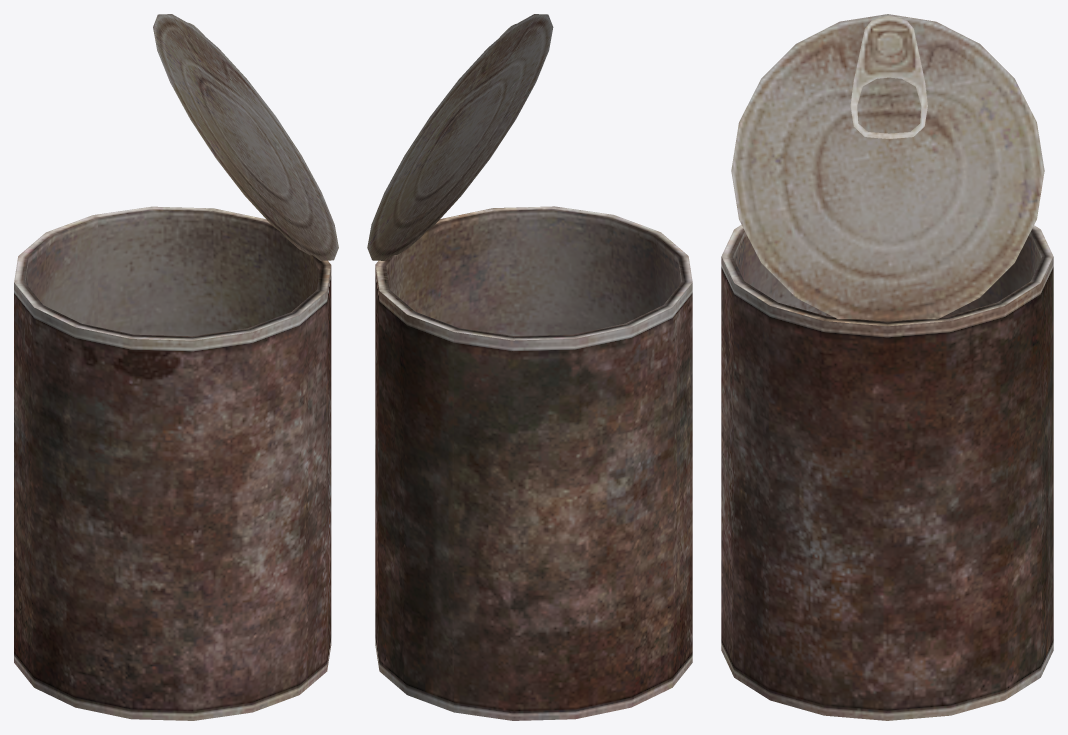
The model's file is can02a.obj.
The picture shows the model from 3 angles, left to right: view 1: azimuth 30°, elevation 25°; view 2: azimuth 150°, elevation 25°; view 3: azimuth 270°, elevation 25°; orthographic projection. The views are drawn at different scales.
Visible parts, largest first — view 1: LODGroup_1_MainMesh_1_Submesh_1; view 2: LODGroup_1_MainMesh_1_Submesh_1; view 3: LODGroup_1_MainMesh_1_Submesh_1.
Boxes of the visible parts, x1,y1,x2,y2 form: LODGroup_1_MainMesh_1_Submesh_1: [14, 14, 338, 720]; LODGroup_1_MainMesh_1_Submesh_1: [367, 14, 692, 720]; LODGroup_1_MainMesh_1_Submesh_1: [721, 14, 1053, 720].
Bounding box in the file's own units: 12.57 × 27.01 × 12.57.
Materials: 1 (1 with a texture image).
